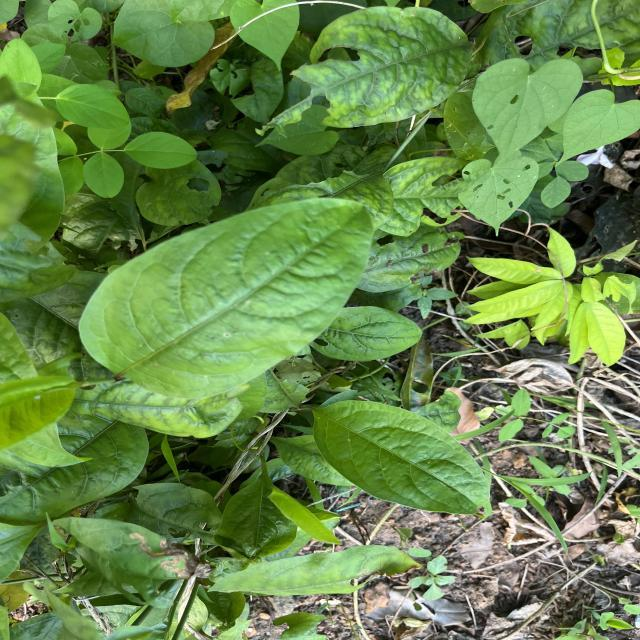Plumbago indica: (75, 192, 382, 404), (308, 396, 500, 516)
